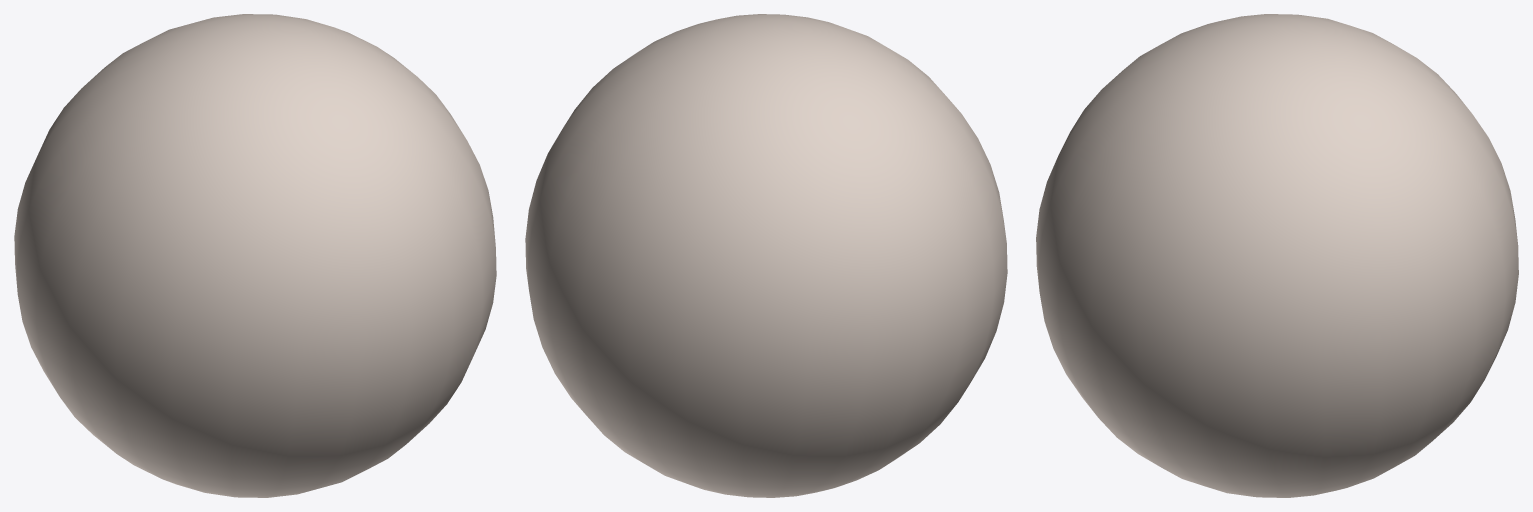
Rendered from copilot_head.glb.
3 views of the same model, side by side, from view 1: azimuth 30°, elevation 25°; view 2: azimuth 150°, elevation 25°; view 3: azimuth 270°, elevation 25° (orthographic).
Size of the model in its own units: 1.99 by 2 by 1.99.
